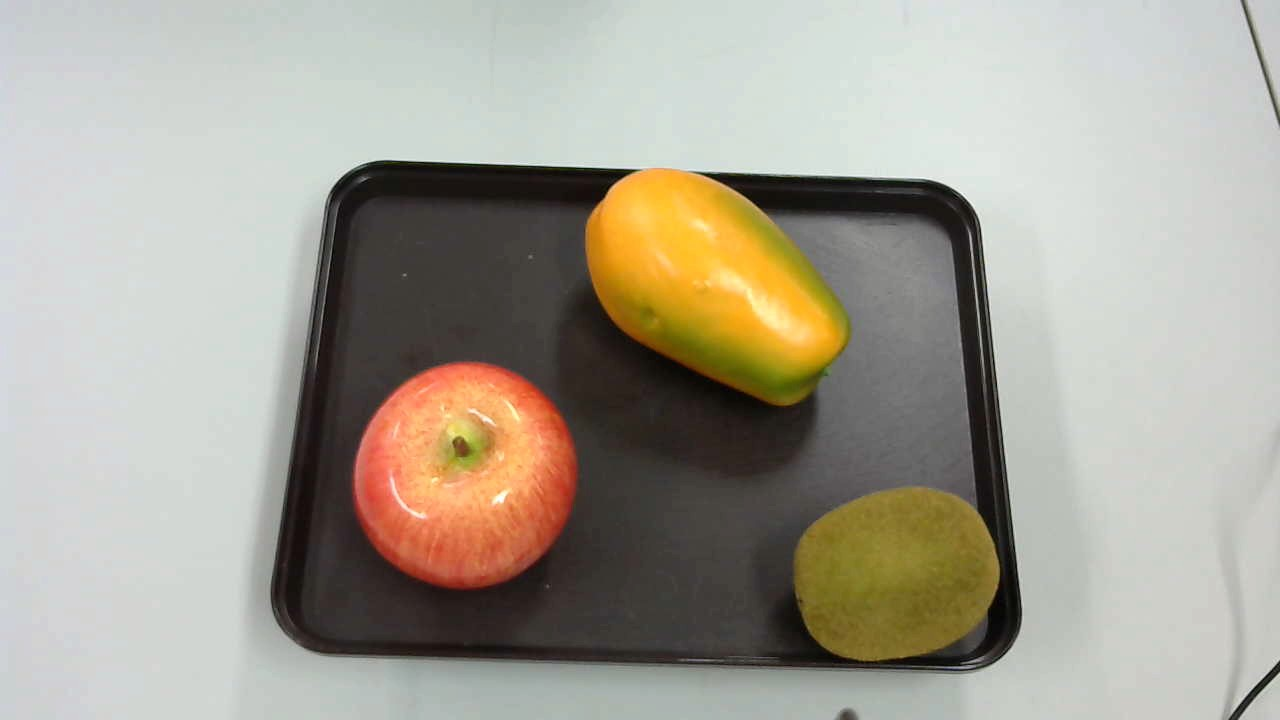kiwi fruit: (786, 478, 1009, 661)
papya: (586, 164, 855, 412)
red apple: (349, 357, 576, 587)
